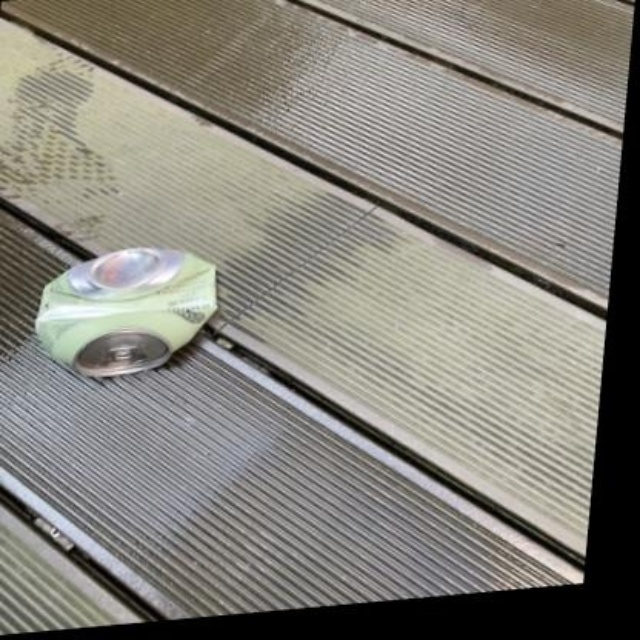trash: (35, 246, 215, 375)
